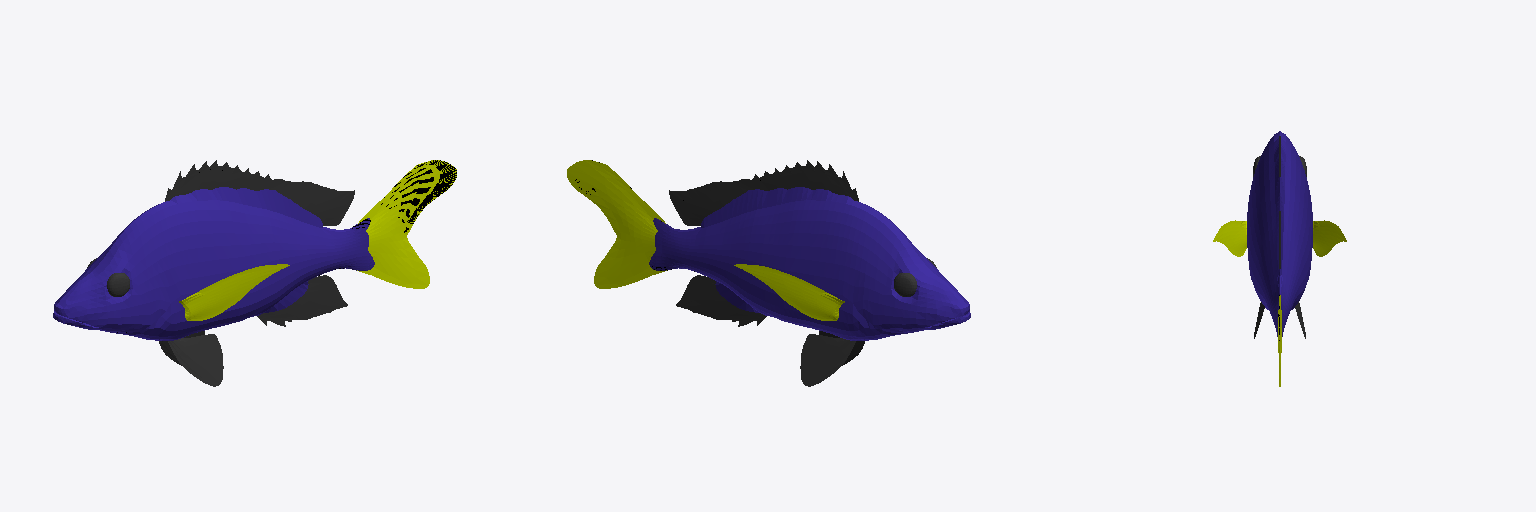
The picture shows the model from 3 angles: view 1: azimuth 30°, elevation 25°; view 2: azimuth 150°, elevation 25°; view 3: azimuth 270°, elevation 25°; orthographic projection.
Parts seen in each view (by area): view 1: object, object9, object5, object3, object2, object8, object7; view 2: object, object9, object4, object3, object2, object8, object6; view 3: object, object5, object4.
Part boxes in pixels (left/top/right/bottom): object: left=53, top=187, right=374, bottom=340; object9: left=357, top=160, right=456, bottom=288; object5: left=179, top=264, right=289, bottom=320; object3: left=268, top=179, right=354, bottom=225; object2: left=165, top=160, right=275, bottom=201; object8: left=257, top=275, right=347, bottom=326; object7: left=168, top=334, right=223, bottom=386; object: left=649, top=187, right=970, bottom=340; object9: left=567, top=160, right=666, bottom=288; object4: left=734, top=264, right=844, bottom=320; object3: left=669, top=179, right=755, bottom=225; object2: left=748, top=160, right=858, bottom=201; object8: left=676, top=275, right=766, bottom=326; object6: left=800, top=334, right=855, bottom=386; object: left=1247, top=131, right=1312, bottom=336; object5: left=1213, top=220, right=1246, bottom=256; object4: left=1313, top=220, right=1346, bottom=256.
Bounding box in the file's own units: 0.3992 × 0.2046 × 0.1148.
Materials: 1 (1 with a texture image).